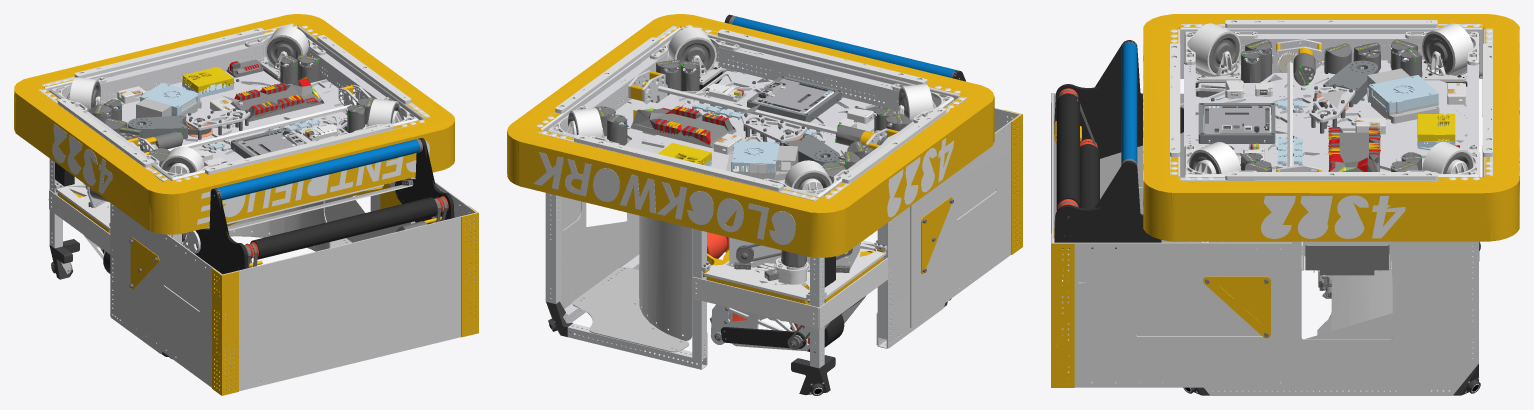
3 renders of one model, left to right at view 1: azimuth 30°, elevation 25°; view 2: azimuth 150°, elevation 25°; view 3: azimuth 270°, elevation 25°, orthographic. The views are drawn at different scales.
Visible parts, largest first — view 1: Part 42, Fabric, Part 38, Brain Pan, Part 1.001, Part 43, Tube 2"x1"x20.5".001, Part 1.002, Back Text, Simplified PDH, IntakePlate.001, Part 44.001 (+38 smaller); view 2: Fabric, Part 38, Spindexer Wall, Right Side Panel, Front Text, Brain Pan, BoomerRang, Tube 2"x1"x20.5", Left Side Panel, Cable wall, Simplified PDH, Horizontal Plate (+42 smaller); view 3: Fabric, Part 38.001, Right Side Panel, Brain Pan, IntakePlate, Right Text, IntakePlate.001, Part 44.001, Spindexer Wall, Part 1.001, Part 37, Robot Battery (+40 smaller).
Boxes of the visible parts, x1,y1,x2,y2 form: Part 42: (222, 212, 477, 391); Fabric: (14, 14, 454, 234); Part 38: (122, 212, 222, 387); Brain Pan: (103, 70, 348, 165); Part 1.001: (250, 197, 437, 259); Part 43: (212, 268, 238, 395); Tube 2"x1"x20.5".001: (100, 44, 263, 101); Part 1.002: (217, 139, 419, 200); Back Text: (197, 140, 429, 224); Simplified PDH: (230, 76, 324, 121); IntakePlate.001: (195, 188, 248, 274); Part 44.001: (461, 206, 478, 337); Fabric: (507, 14, 994, 257); Part 38: (910, 114, 1020, 327); Spindexer Wall: (639, 91, 820, 340); Right Side Panel: (545, 193, 639, 308); Front Text: (533, 152, 795, 244); Brain Pan: (615, 71, 895, 182); BoomerRang: (572, 267, 688, 352); Tube 2"x1"x20.5": (718, 47, 899, 110); Left Side Panel: (887, 206, 944, 348); Cable wall: (691, 277, 819, 328); Simplified PDH: (630, 105, 736, 148); Horizontal Plate: (702, 240, 886, 300); Fabric: (1143, 14, 1519, 241); Part 38.001: (1054, 242, 1291, 387); Right Side Panel: (1204, 241, 1478, 395); Brain Pan: (1195, 60, 1467, 171); IntakePlate: (1054, 160, 1161, 248); Right Text: (1261, 195, 1405, 238); IntakePlate.001: (1054, 40, 1183, 158); Part 44.001: (1051, 233, 1074, 387); Spindexer Wall: (1202, 86, 1401, 335); Part 1.001: (1056, 93, 1079, 210); Part 37: (1203, 276, 1270, 338); Robot Battery: (1305, 245, 1388, 275).
Bounding box in the file's own units: 91.24 × 55.9 × 101.
